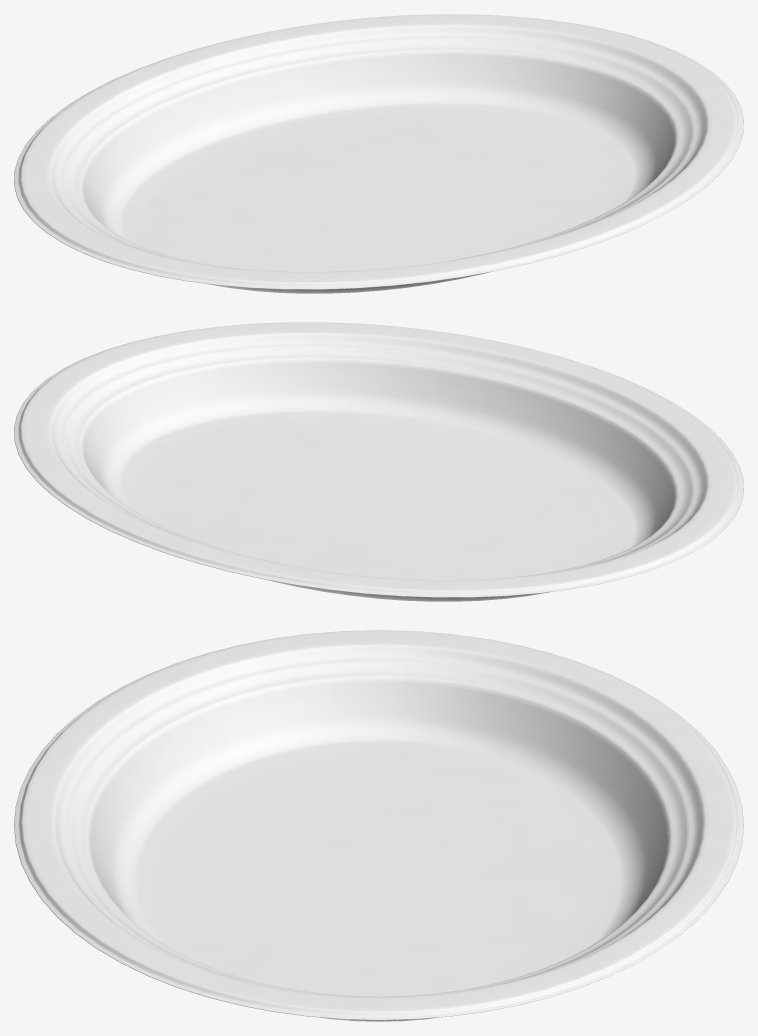
The model's file is elegant-oval-platter-clean-transformed.glb.
3 views of the same model, one above another, from view 1: azimuth 30°, elevation 25°; view 2: azimuth 150°, elevation 25°; view 3: azimuth 270°, elevation 25° (orthographic). The views are drawn at different scales.
Visible parts, largest first — view 1: elegant_platters_12IN; view 2: elegant_platters_12IN; view 3: elegant_platters_12IN.
Part boxes in pixels (box(x1,y1,x2,y2)): elegant_platters_12IN: box(14, 14, 743, 293); elegant_platters_12IN: box(14, 322, 743, 601); elegant_platters_12IN: box(14, 630, 743, 1021).
Bounding box in the file's own units: 0.3184 × 0.0235 × 0.252.
Materials: 1 (1 with a texture image).
